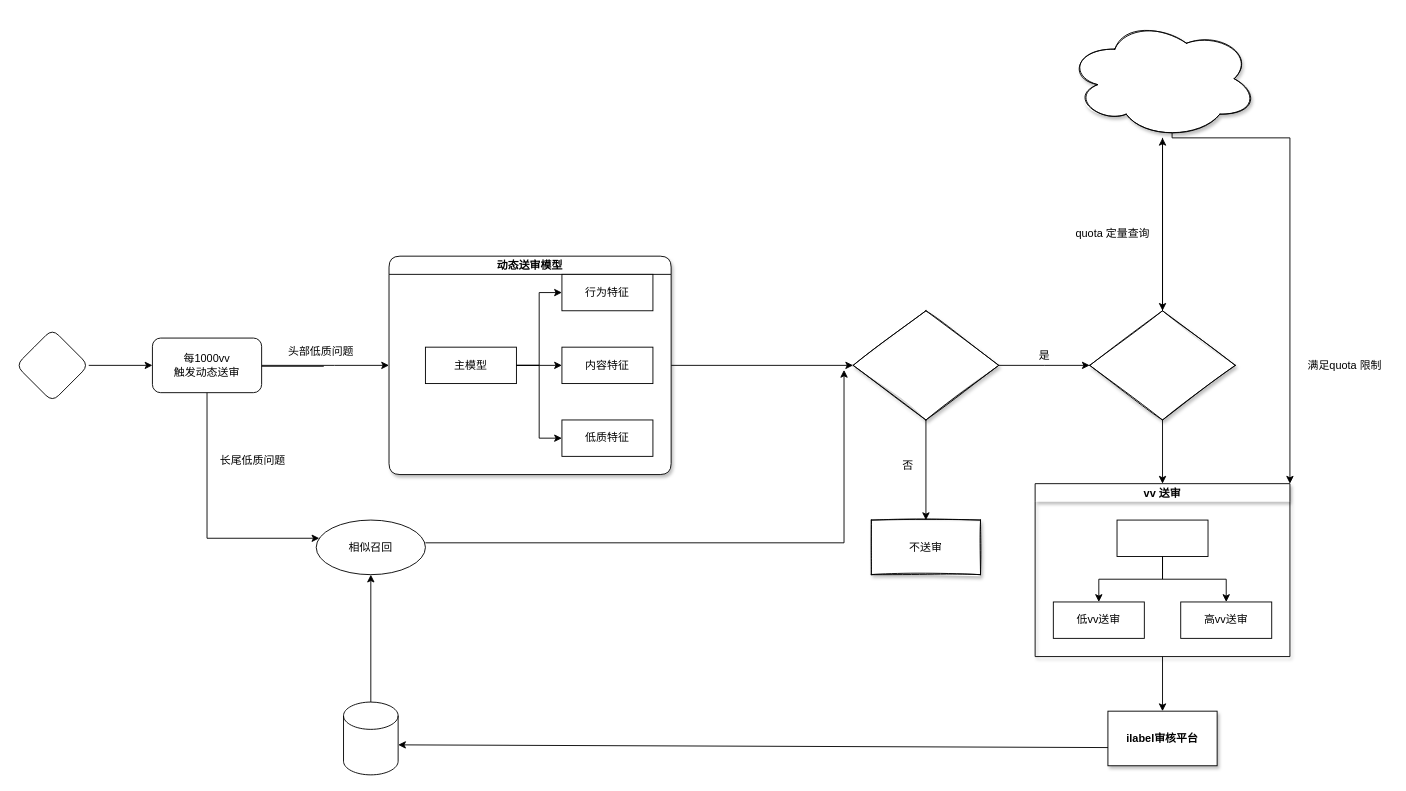
Image size: 1406x791. Some labels were removed from this diagram. The shapes that lost their labels are listed below. From the top down, each one's centre as x and y in pixels, then its label:
the point at 1163,79: QUOTA 管理器
the point at 52,365: 候选feed
the point at 926,366: 是否可送审
the point at 1163,366: 送审分级
the point at 1162,537: 分级判定
the point at 370,738: 长尾低质种子库
